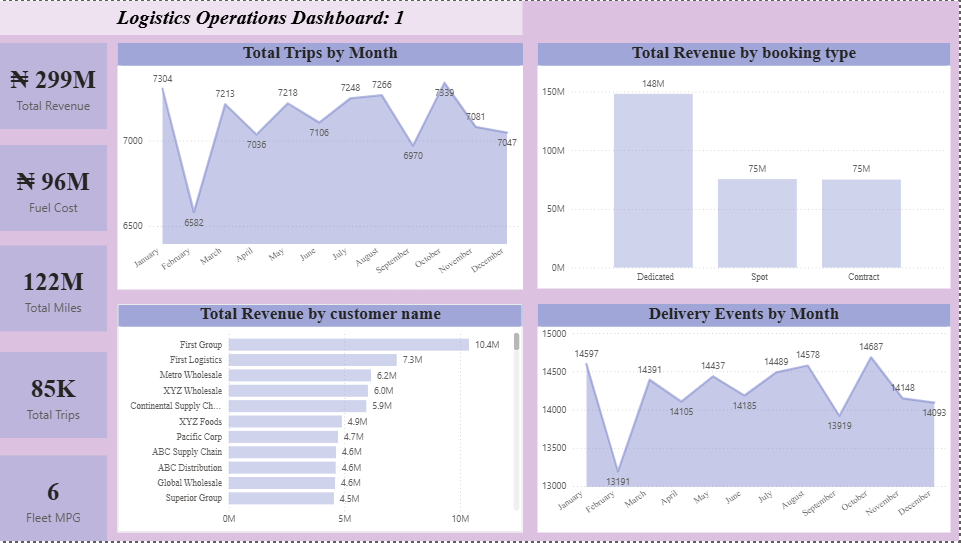

This screenshot's page, from the dashboard's own definition file:
{"tool":"powerbi","page":{"name":"Executive Logistics Overview","canvas":[1280,720],"ordinal":0},"visuals":[{"type":"card","fields":{"Values":["DateTable.Total Revenue"]},"box":[0,56.7,144.1,115],"z":0},{"type":"card","fields":{"Values":["DateTable.Total Trips"]},"box":[0,468,144.1,115],"z":1000},{"type":"card","fields":{"Values":["DateTable.Fleet MPG"]},"box":[0,605.6,144.1,115],"z":2000},{"type":"card","fields":{"Values":["DateTable.Total Miles"]},"box":[0,325.5,144.1,115],"z":3000},{"type":"card","fields":{"Values":["DateTable.Fuel Cost"]},"box":[0,192.7,144.1,115],"z":4000},{"type":"lineChart","fields":{"Category":["loads.load_date.Variation.Date Hierarchy.Month"],"Y":["DateTable.Total Trips"]},"box":[157.1,56.7,540.8,328.7],"z":5000},{"type":"clusteredColumnChart","title":"Total Revenue by booking type","fields":{"Category":["loads.booking_type"],"Y":["DateTable.Total Revenue"]},"box":[718.9,56.7,550.5,327.1],"z":6000},{"type":"barChart","title":"Total Revenue by customer name","fields":{"Category":["customers.customer_name"],"Y":["DateTable.Total Revenue"]},"box":[157.1,403.2,540.8,304.4],"z":7000},{"type":"lineChart","fields":{"Y":["DateTable.Delivery Events"],"Category":["delivery_events.scheduled_datetime.Variation.Date Hierarchy.Month"]},"box":[718.9,403.2,550.5,304.4],"z":8000},{"type":"textbox","box":[0,0,697.9,45.3],"z":9000}]}

Visuals, with their boxes in screenshot pixels (x1, y1, x2, y2), scaled from the page's 1280x720 canvas onto the 961x543 screenshot:
card - DateTable.Total Revenue: detection(0, 43, 108, 129)
card - DateTable.Total Trips: detection(0, 353, 108, 440)
card - DateTable.Fleet MPG: detection(0, 457, 108, 542)
card - DateTable.Total Miles: detection(0, 245, 108, 332)
card - DateTable.Fuel Cost: detection(0, 145, 108, 232)
lineChart - loads.load_date.Variation.Date Hierarchy.Month x DateTable.Total Trips: detection(118, 43, 524, 291)
"Total Revenue by booking type" clusteredColumnChart: detection(540, 43, 953, 289)
"Total Revenue by customer name" barChart: detection(118, 304, 524, 534)
lineChart - DateTable.Delivery Events x delivery_events.scheduled_datetime.Variation.Date Hierarchy.Month: detection(540, 304, 953, 534)
textbox: detection(0, 0, 524, 34)
